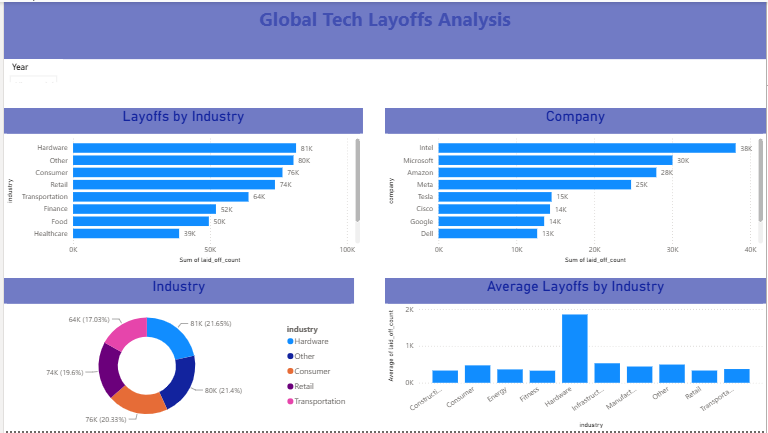

Layout of this report page (visuals, bound fields, positions):
{"tool":"powerbi","page":{"name":"Industry & Company Analysis","canvas":[1280,720],"ordinal":1},"visuals":[{"type":"textbox","box":[0,0,1280,95.7],"z":0},{"type":"slicer","fields":{"Values":["layoffs_events.year"]},"box":[0,95.7,99.1,38.6],"z":1},{"type":"clusteredBarChart","title":"Layoffs by Industry","fields":{"Category":["layoffs_events.industry"],"Y":["Sum(layoffs_events.laid_off_count)"]},"box":[0,178.1,603,265.4],"z":2},{"type":"clusteredBarChart","title":" Company","fields":{"Category":["layoffs_events.company"],"Y":["Sum(layoffs_events.laid_off_count)"]},"box":[640,178.1,640,265.4],"z":3},{"type":"donutChart","title":"Industry","fields":{"Category":["layoffs_events.industry"],"Y":["Sum(layoffs_events.laid_off_count)"]},"box":[0,463.6,587.9,257],"z":4},{"type":"clusteredColumnChart","title":"Average Layoffs by Industry","fields":{"Category":["layoffs_events.industry","layoffs_events.company"],"Y":["Avg(layoffs_events.laid_off_count)"]},"box":[640,463.6,640,257],"z":5}]}

Visuals, with their boxes in screenshot pixels (x1, y1, x2, y2), scaled from the page's 1280x720 canvas onto the 768x433 screenshot:
textbox: 0/0/767/58
slicer - layoffs_events.year: 0/58/59/81
"Layoffs by Industry" clusteredBarChart: 0/107/362/267
" Company" clusteredBarChart: 384/107/767/267
"Industry" donutChart: 0/279/353/432
"Average Layoffs by Industry" clusteredColumnChart: 384/279/767/432
